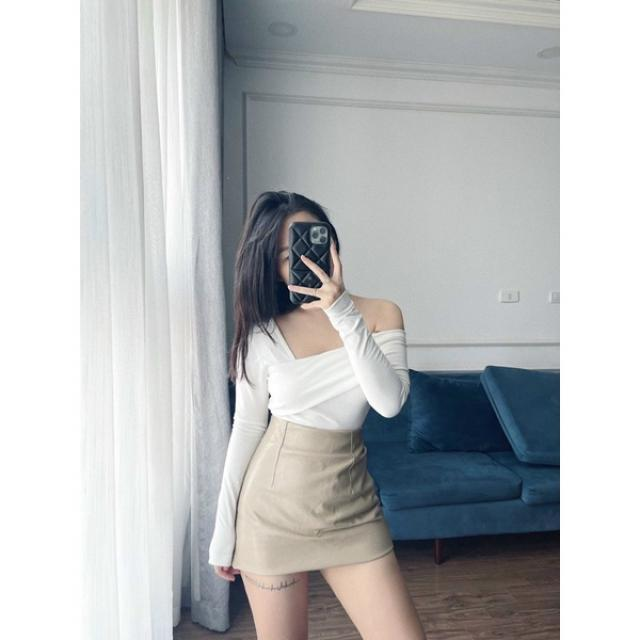Standing: (216, 188, 444, 640)
